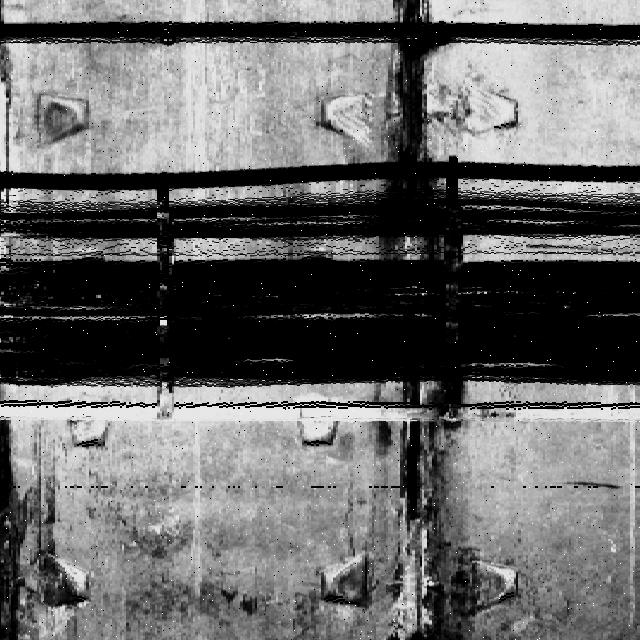leakage: (379, 380, 481, 637), (370, 1, 450, 261), (3, 416, 30, 640)
